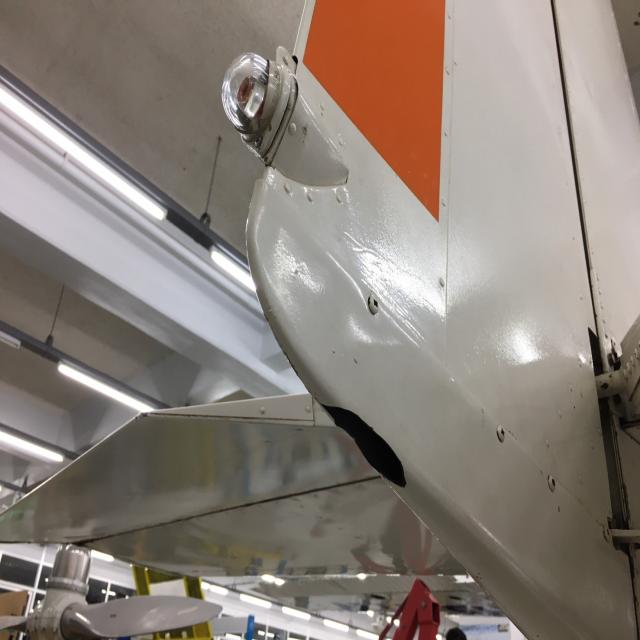Rupture: (319, 373, 414, 506), (296, 121, 311, 160)
